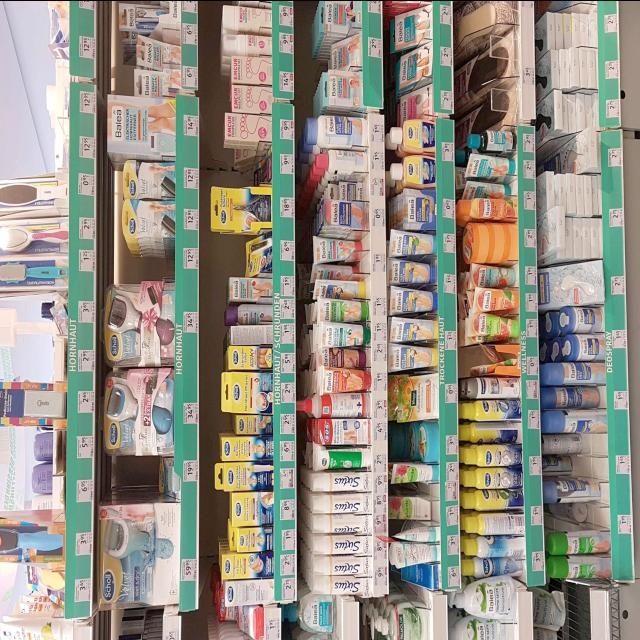empty_space: (10, 20, 62, 160), (111, 253, 171, 278), (119, 463, 163, 493), (216, 152, 268, 177)
